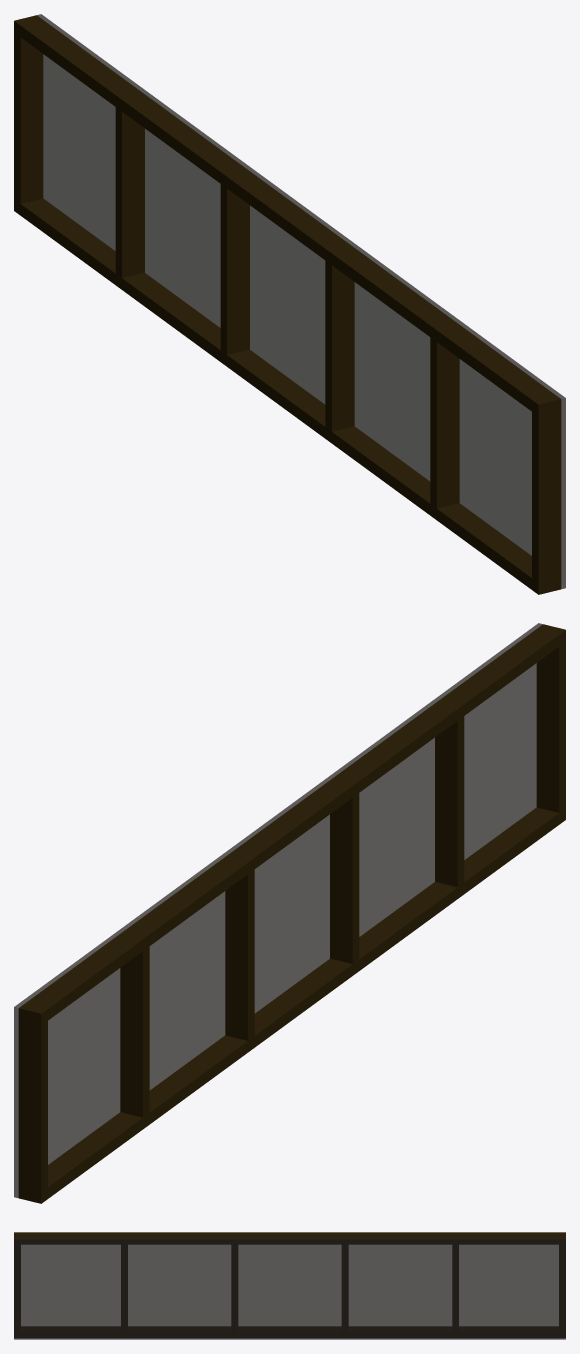
File: 5-SquareWindows(Final).fbx
3 views of the same model, one above another, from view 1: azimuth 30°, elevation 25°; view 2: azimuth 150°, elevation 25°; view 3: azimuth 270°, elevation 25° (orthographic). The views are drawn at different scales.
Parts seen in each view (by area): view 1: 5SCC frame; view 2: 5SCC frame; view 3: 5SCC frame.
Part boxes in pixels (box(x1,y1,x2,y2)): 5SCC frame: box(14, 14, 565, 594); 5SCC frame: box(14, 623, 565, 1203); 5SCC frame: box(14, 1232, 565, 1339).
Size of the model in its own units: 121 by 800 by 4000.
